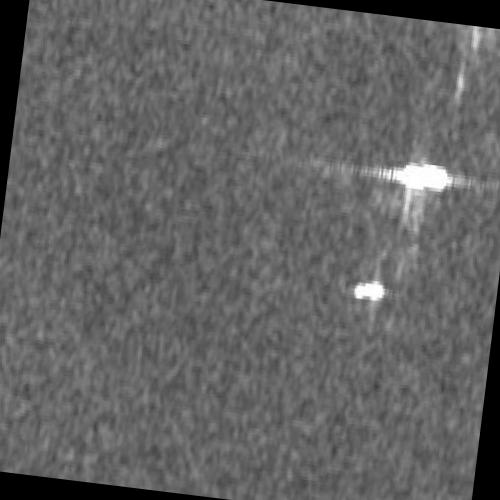ship: (396, 162, 451, 193), (352, 280, 386, 302)
